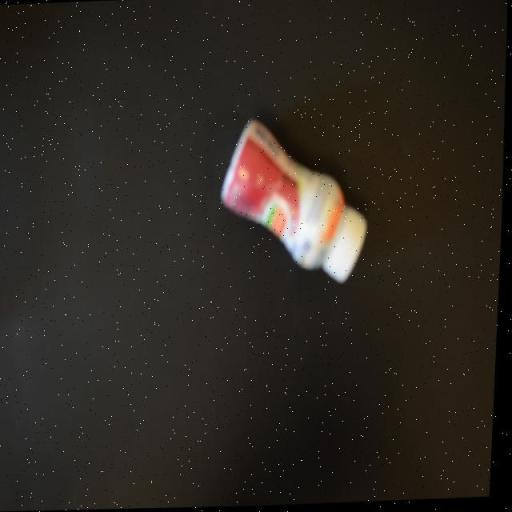plastic: (216, 114, 378, 290)
